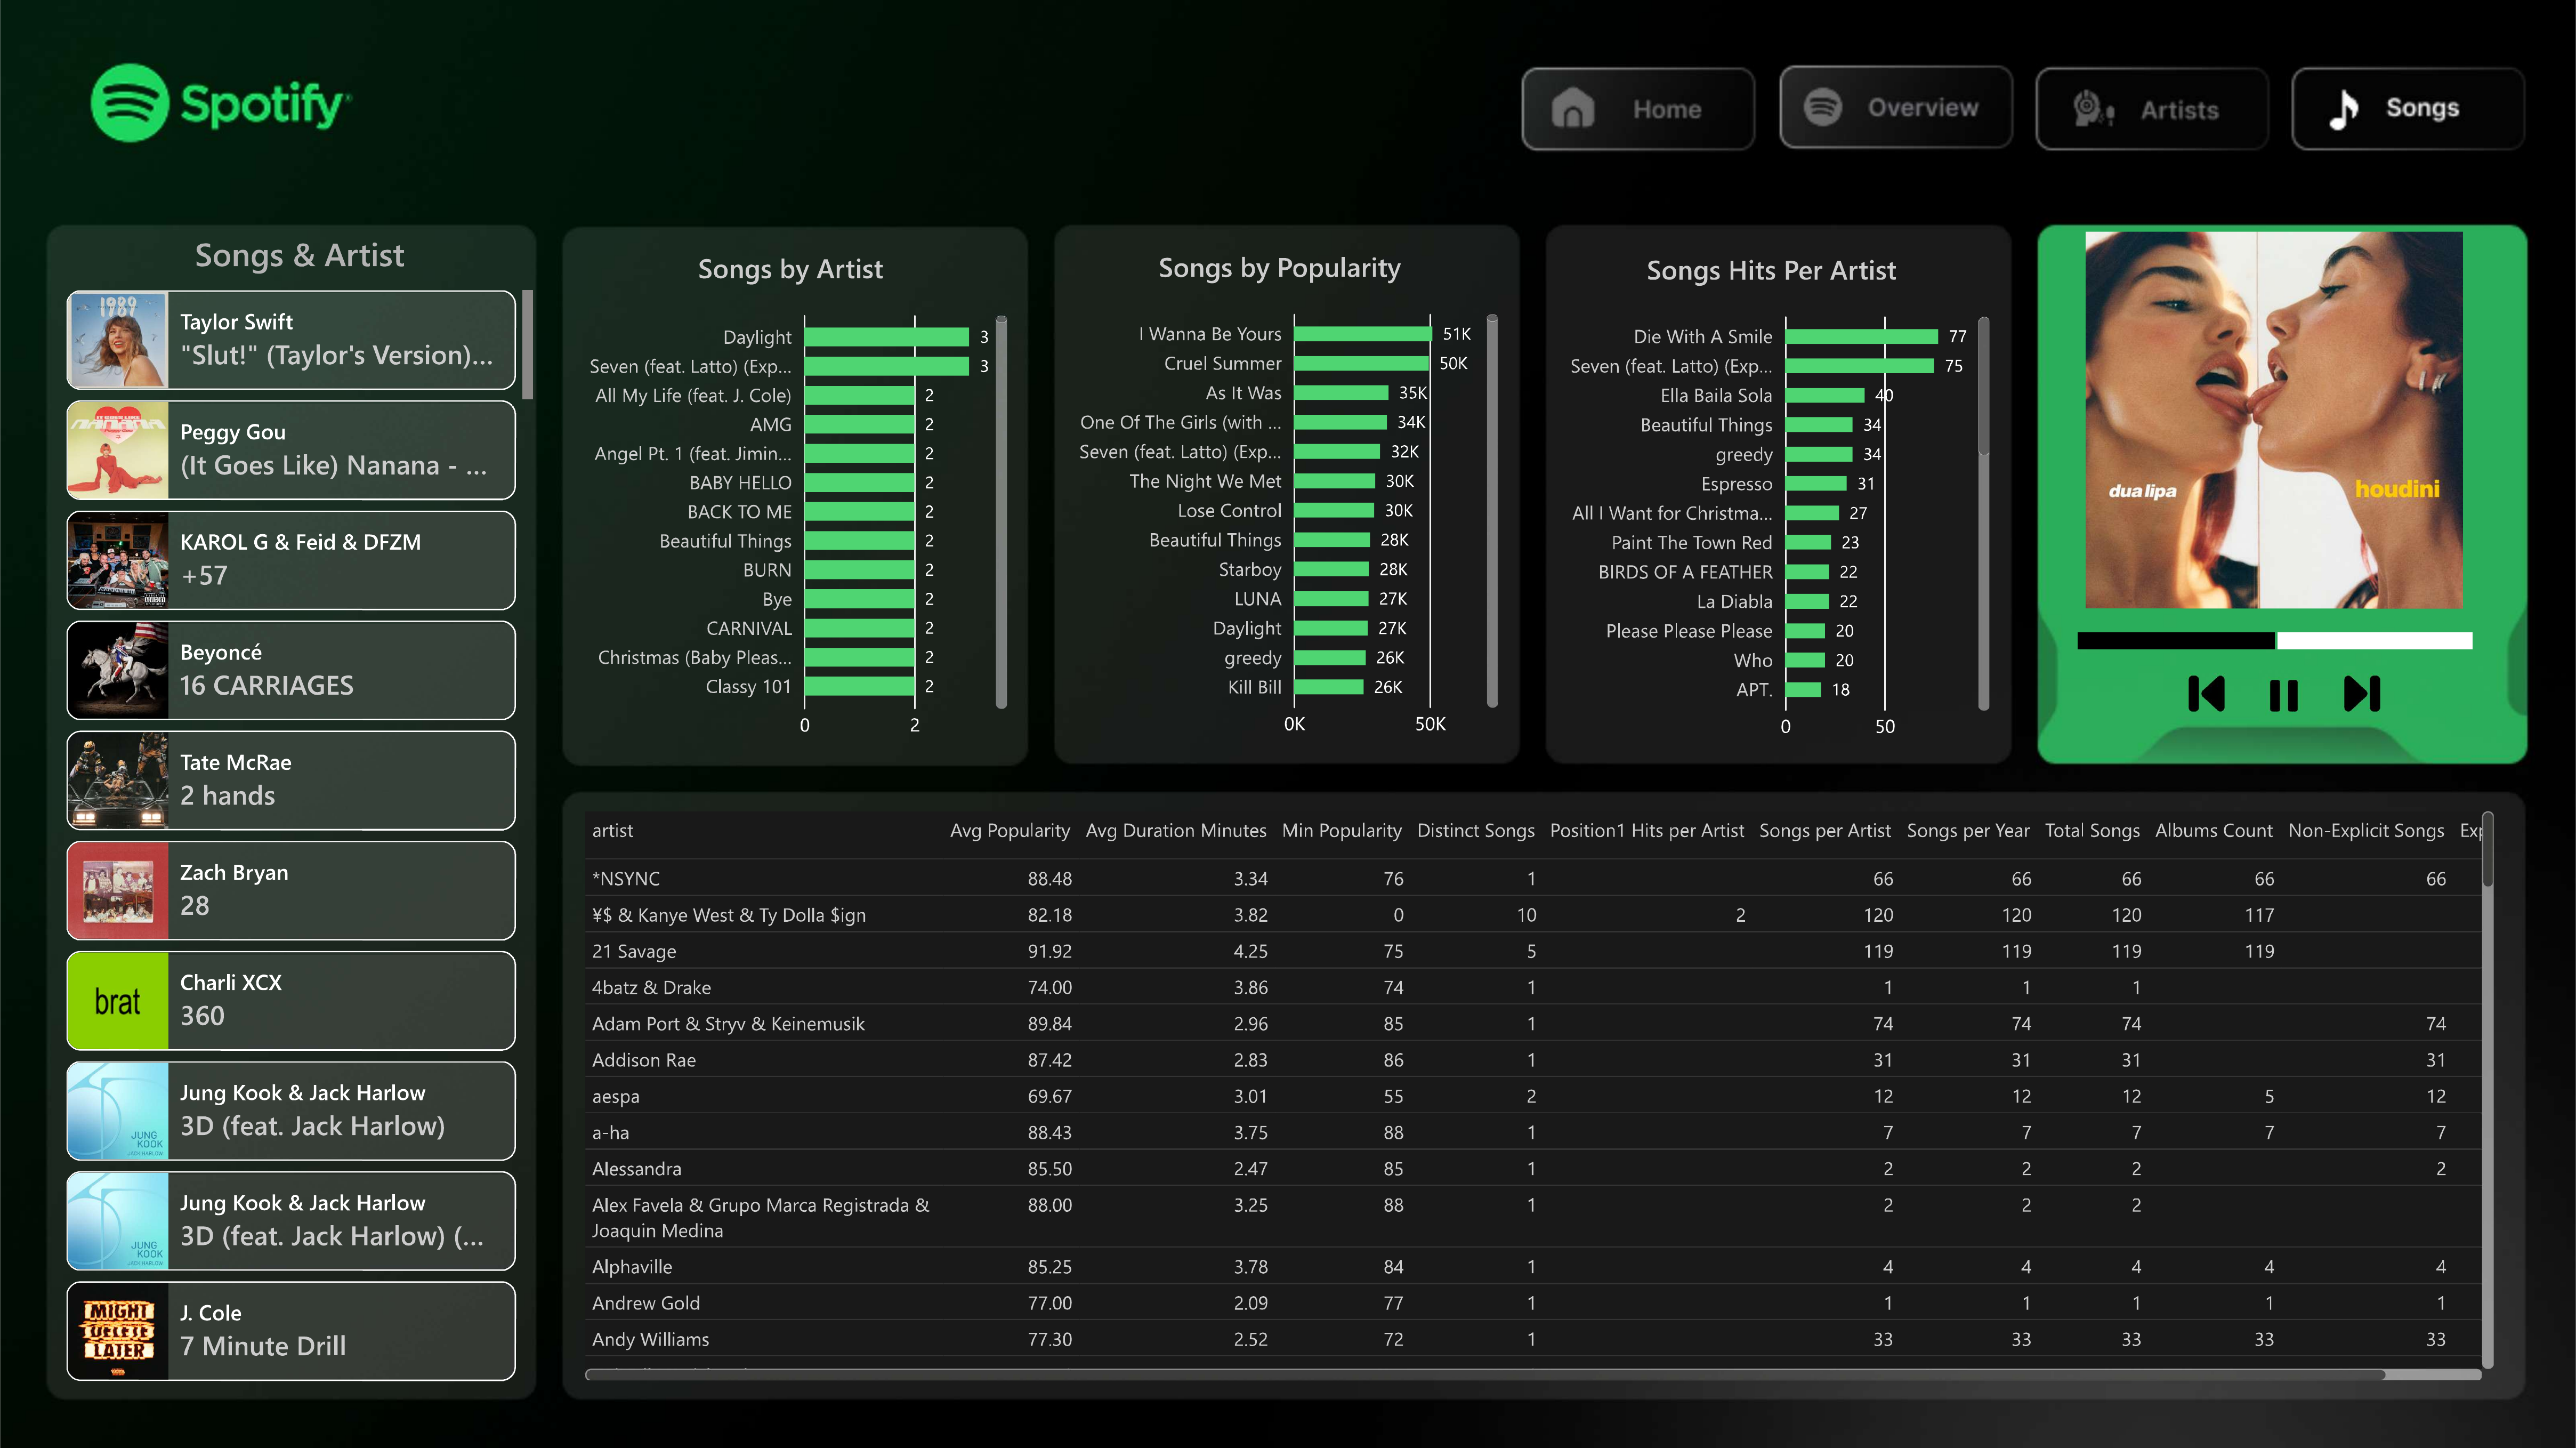

What the dashboard file says about the page in this screenshot:
{"tool":"powerbi","page":{"name":"Songs","canvas":[1920,1080],"ordinal":2},"visuals":[{"type":"actionButton","box":[1709.3,49.1,172.3,63.4],"z":0},{"type":"actionButton","box":[1517.2,49.1,172.3,63.4],"z":1000},{"type":"actionButton","box":[1324.8,47.5,172.3,63.4],"z":2000},{"type":"actionButton","box":[1136.6,49.5,172.3,63.4],"z":3000},{"type":"cardVisual","fields":{"Data":["Min(Top-50-World.album_cover_url)"]},"box":[1483.2,172.3,425.3,280.5],"z":4000},{"type":"hundredPercentStackedBarChart","fields":{"Y":["_Measures.Avg Popularity","Avg(Top-50-World.popularity)"]},"box":[1532.7,427.7,326.7,93.1],"z":5000},{"type":"image","box":[1623.8,501,41.6,29.7],"z":6000},{"type":"image","box":[1740.6,501,39.6,29.7],"z":7000},{"type":"image","box":[1677.2,499,51.5,37.6],"z":8000},{"type":"advancedSlicerVisual","title":"Songs & Artist","fields":{"Values":["Top-50-World.song"]},"box":[49.5,172.3,348.5,857.4],"z":9000},{"type":"clusteredBarChart","title":"Songs by Artist","fields":{"Category":["Top-50-World.song"],"Y":["_Measures.Distinct Artists"]},"box":[412.5,170.8,354.2,400.2],"z":10000},{"type":"clusteredBarChart","title":"Songs by Popularity","fields":{"Category":["Top-50-World.song"],"Y":["Sum(Top-50-World.popularity)"]},"box":[776.2,170.3,356.4,400],"z":11000},{"type":"clusteredBarChart","title":"Songs Hits Per Artist","fields":{"Category":["Top-50-World.song"],"Y":["_Measures.Position1 Hits per Artist"]},"box":[1142.6,172.3,356.4,400],"z":12000},{"type":"tableEx","fields":{"Values":["Top-50-World.artist","_Measures.Avg Popularity","_Measures.Avg Duration Minutes","_Measures.Min Popularity","_Measures.Distinct Songs","_Measures.Position1 Hits per Artist","_Measures.Songs per Artist","_Measures.Songs per Year","_Measures.Total Songs","_Measures.Albums Count","_Measures.Non-Explicit Songs","_Measures.Explicit Songs"]},"box":[419.8,590.1,1455.5,453.5],"z":13000}]}

Visuals, with their boxes in screenshot pixels (x1, y1, x2, y2), scaled from the page's 1920x1080 canvas onto the 2576x1448 screenshot:
actionButton: bbox=(2294, 66, 2524, 151)
actionButton: bbox=(2036, 66, 2267, 151)
actionButton: bbox=(1778, 63, 2008, 149)
actionButton: bbox=(1525, 66, 1756, 151)
cardVisual - Min(Top-50-World.album_cover_url): bbox=(1990, 231, 2561, 607)
hundredPercentStackedBarChart - _Measures.Avg Popularity x Avg(Top-50-World.popularity): bbox=(2056, 574, 2494, 698)
image: bbox=(2178, 672, 2234, 712)
image: bbox=(2335, 672, 2388, 712)
image: bbox=(2250, 669, 2319, 719)
"Songs & Artist" advancedSlicerVisual: bbox=(67, 231, 534, 1381)
"Songs by Artist" clusteredBarChart: bbox=(553, 229, 1029, 766)
"Songs by Popularity" clusteredBarChart: bbox=(1041, 228, 1520, 765)
"Songs Hits Per Artist" clusteredBarChart: bbox=(1533, 231, 2011, 767)
tableEx - Top-50-World.artist x _Measures.Avg Popularity: bbox=(563, 791, 2516, 1399)
